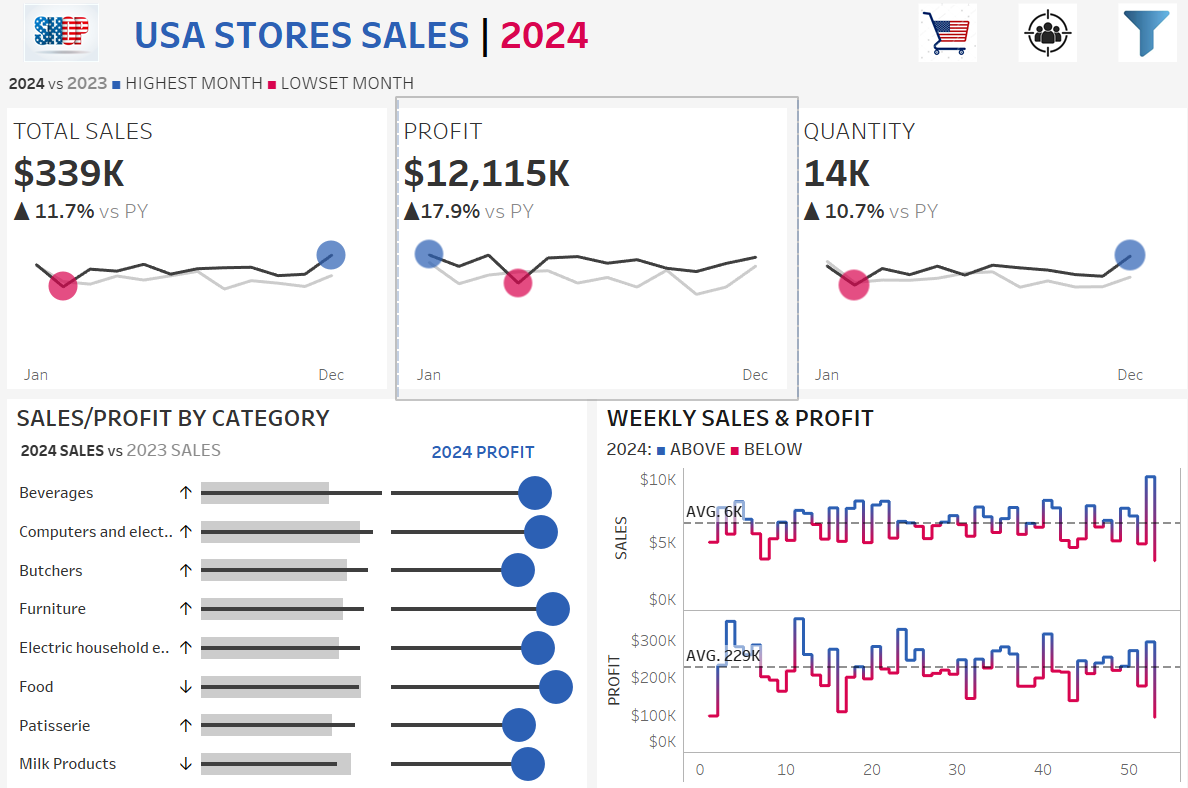

Layout of this report page (visuals, bound fields, positions):
{"tool":"tableau","page":{"name":"USA SALES DASHBOARD","canvas":[1000,1000],"units":"permille","ordinal":1},"visuals":[{"type":"image","param":"Image/typography-internet-logo-usa-shop-vector-1806628.jpg","box":[0,0,107.5,83.5]},{"type":"text","box":[107.5,0,642.5,83.5]},{"type":"dashboard-object","box":[750,0,83.3,83.5]},{"type":"dashboard-object","box":[833.3,0,83.3,83.5]},{"type":"dashboard-object","box":[916.7,0,83.3,83.5]},{"type":"text","box":[589.2,19.9,165.8,106]},{"type":"worksheet","title":"KPI MAX MIN","mark":"Automatic","box":[0,83.5,1000,39.9]},{"type":"worksheet","title":"TOTAL SALES KPI","mark":"Automatic","rows":["Calculation_1655917302805250054"],"cols":["TransactionDate"],"box":[0,123.4,333.3,375.3]},{"type":"worksheet","title":"PROFIT KPI","mark":"Automatic","rows":["Calculation_1655917302813900814"],"cols":["TransactionDate"],"box":[333.3,123.4,333.3,375.3]},{"type":"worksheet","title":"QUANTITY KPI","mark":"Automatic","rows":["Calculation_1655917302819725332"],"cols":["TransactionDate"],"box":[666.7,123.4,333.3,375.3]},{"type":"parameter","param":"[Parameters].[Parameter 1]","box":[589.2,125.9,165.8,91]},{"type":"blank","box":[589.2,217,165.8,12.5]},{"type":"text","box":[589.2,229.4,165.8,57.4]},{"type":"filter","title":"TOTAL SALES KPI","param":"[federated.04ueab2038oc761gdvh7g1gfegwm].[none:Region:nk]","box":[589.2,286.8,165.8,76.1]},{"type":"filter","title":"TOTAL SALES KPI","param":"[federated.04ueab2038oc761gdvh7g1gfegwm].[none:State:nk]","box":[589.2,362.9,165.8,92.3]},{"type":"blank","box":[589.2,455.1,165.8,12.5]},{"type":"text","box":[589.2,467.6,165.8,58.6]},{"type":"text","box":[10,501.2,480,39.9]},{"type":"text","box":[501.7,501.2,488.3,38.5]},{"type":"filter","title":"TOTAL SALES KPI","param":"[federated.04ueab2038oc761gdvh7g1gfegwm].[none:Category:nk]","box":[589.2,526.2,165.8,76.1]},{"type":"text","box":[501.7,539.7,488.3,39.9]},{"type":"worksheet","title":"CY VS PY SALES","mark":"Automatic","box":[10,541.1,310,44.9]},{"type":"text","box":[320,541.1,170,44.9]},{"type":"worksheet","title":"WEEKLY SALES AND PROFIT","mark":"Line","rows":["Calculation_1655917302795055104","Calculation_1655917302796906499"],"cols":["TransactionDate"],"box":[501.7,579.6,488.3,402.9]},{"type":"worksheet","title":"SALES AND PROFIT BY CATEGORY","mark":"Bar","rows":["Category","Calculation_1605814757272158208"],"cols":["Calculation_1655917302795481089","Calculation_1655917302795055104","Calculation_1655917302796906499","Calculation_1655917302796906499"],"box":[10,586,480,396.5]},{"type":"filter","title":"TOTAL SALES KPI","param":"[federated.04ueab2038oc761gdvh7g1gfegwm].[none:PaymentMethod:nk]","box":[589.2,602.3,165.8,81]}]}

Visuals, with their boxes on the dashboard's canvas, which has no fixed pixel size, in thousandths of its width and height (x1, y1, x2, y2). These are canvas units, not pixel positions in the 1188x788 screenshot, which may show the page scaled, cropped or inside an application window:
image: (0, 0, 108, 84)
text: (108, 0, 750, 84)
dashboard-object: (750, 0, 833, 84)
dashboard-object: (833, 0, 917, 84)
dashboard-object: (917, 0, 1000, 84)
text: (589, 20, 755, 126)
"KPI MAX MIN" worksheet: (0, 84, 1000, 123)
"TOTAL SALES KPI" worksheet: (0, 123, 333, 499)
"PROFIT KPI" worksheet: (333, 123, 667, 499)
"QUANTITY KPI" worksheet: (667, 123, 1000, 499)
parameter: (589, 126, 755, 217)
blank: (589, 217, 755, 230)
text: (589, 229, 755, 287)
"TOTAL SALES KPI" filter: (589, 287, 755, 363)
"TOTAL SALES KPI" filter: (589, 363, 755, 455)
blank: (589, 455, 755, 468)
text: (589, 468, 755, 526)
text: (10, 501, 490, 541)
text: (502, 501, 990, 540)
"TOTAL SALES KPI" filter: (589, 526, 755, 602)
text: (502, 540, 990, 580)
"CY VS PY SALES" worksheet: (10, 541, 320, 586)
text: (320, 541, 490, 586)
"WEEKLY SALES AND PROFIT" worksheet (Line marks): (502, 580, 990, 982)
"SALES AND PROFIT BY CATEGORY" worksheet (Bar marks): (10, 586, 490, 982)
"TOTAL SALES KPI" filter: (589, 602, 755, 683)
